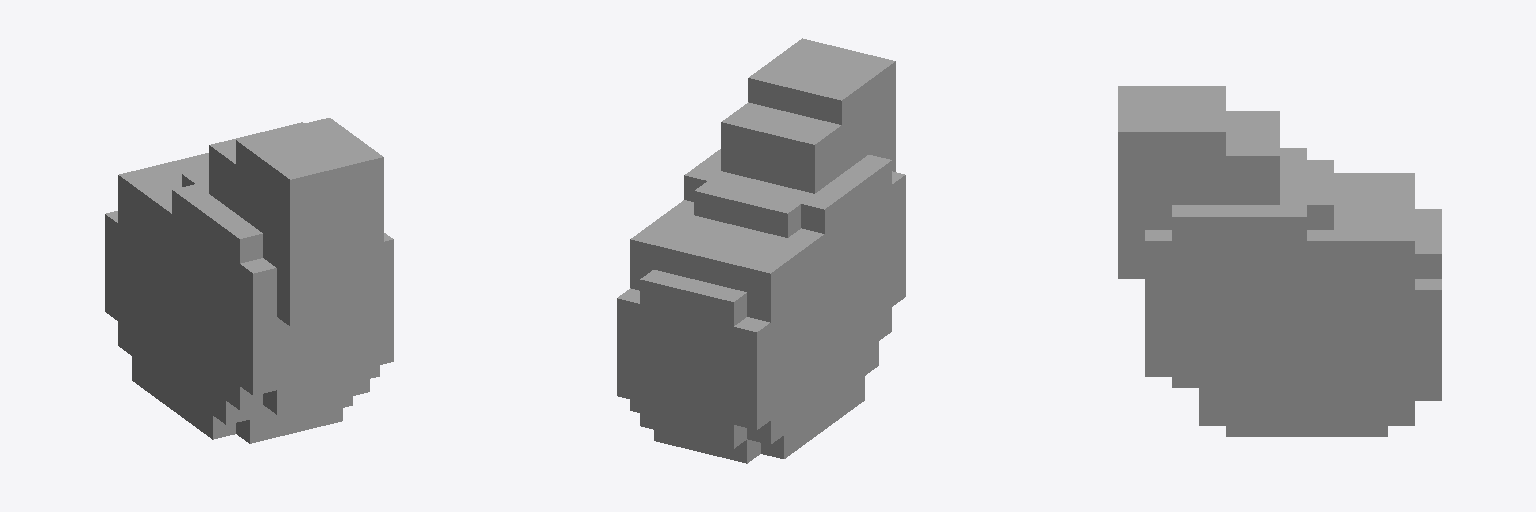
3 renders of one model, left to right at view 1: azimuth 30°, elevation 25°; view 2: azimuth 150°, elevation 25°; view 3: azimuth 270°, elevation 25°, orthographic.
Visible parts, largest first — view 1: Model; view 2: Model; view 3: Model.
Boxes of the visible parts, <box> form: Model: <box>105,118,393,443</box>; Model: <box>617,38,905,463</box>; Model: <box>1118,86,1441,436</box>.
Size of the model in its own units: 6 by 12 by 12.
1 materials, 1 textured.